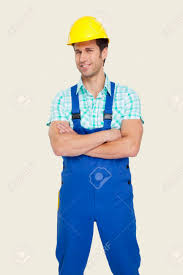Person_wearing_helmet: (64, 12, 117, 60)
